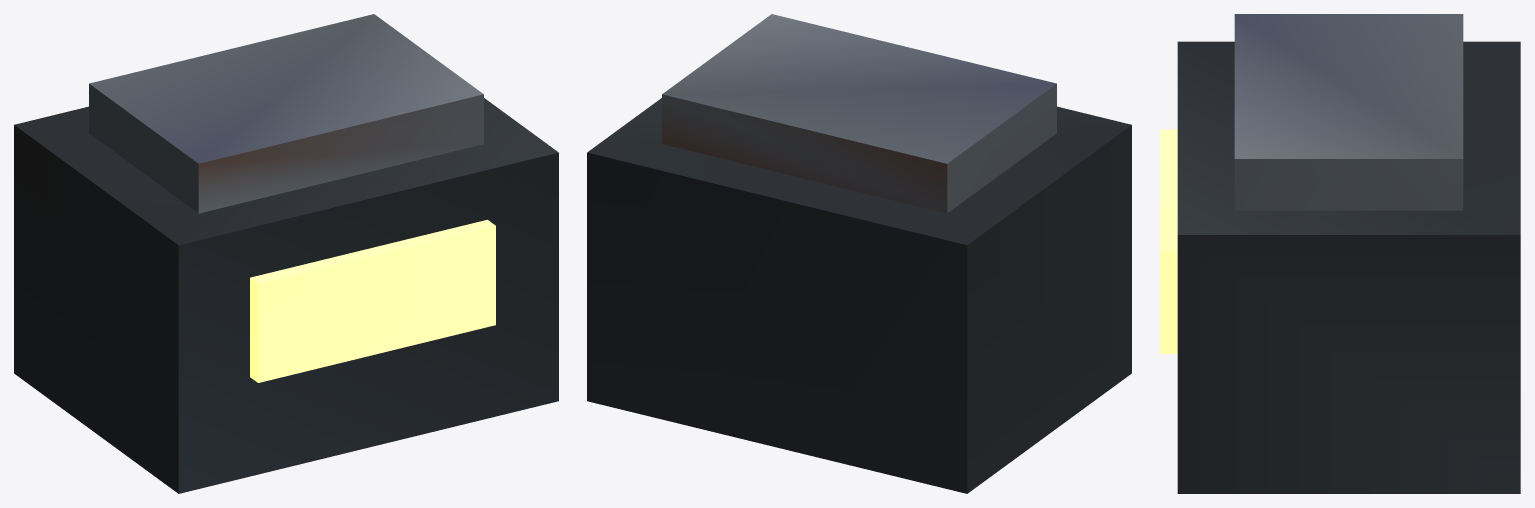
Rendered from log.glb.
3 renders of one model, left to right at view 1: azimuth 30°, elevation 25°; view 2: azimuth 150°, elevation 25°; view 3: azimuth 270°, elevation 25°, orthographic. The views are drawn at different scales.
Visible parts, largest first — view 1: log; view 2: log; view 3: log.
Part boxes in pixels (x1,y1,x2,y2): log: (14, 14, 558, 493); log: (587, 14, 1131, 493); log: (1160, 14, 1520, 493).
Bounding box in the file's own units: 16 × 12 × 12.6.
